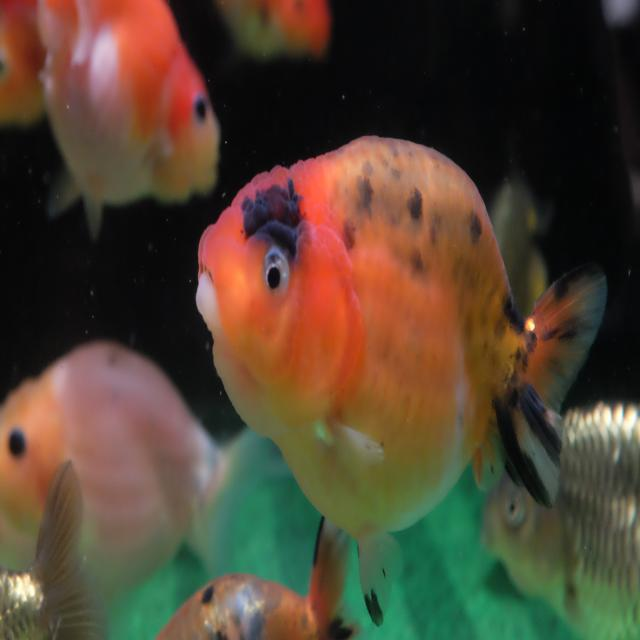Goldfish: (193, 131, 610, 633), (1, 335, 272, 607), (34, 0, 224, 246)
